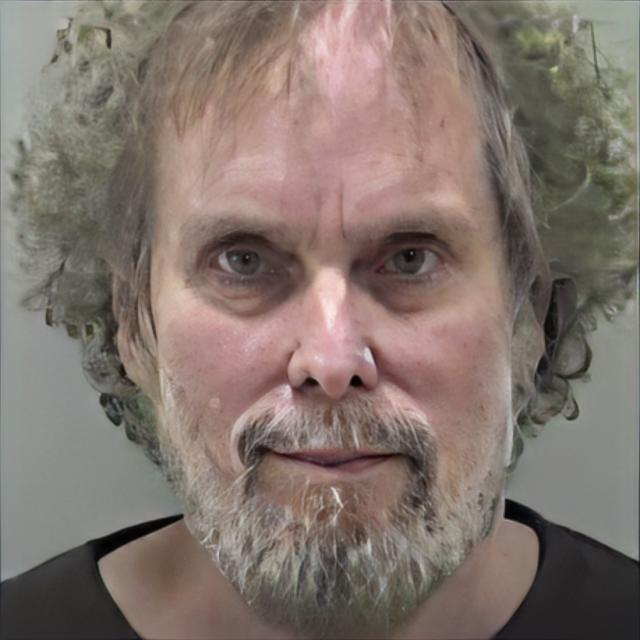content: (144, 0, 512, 637)
